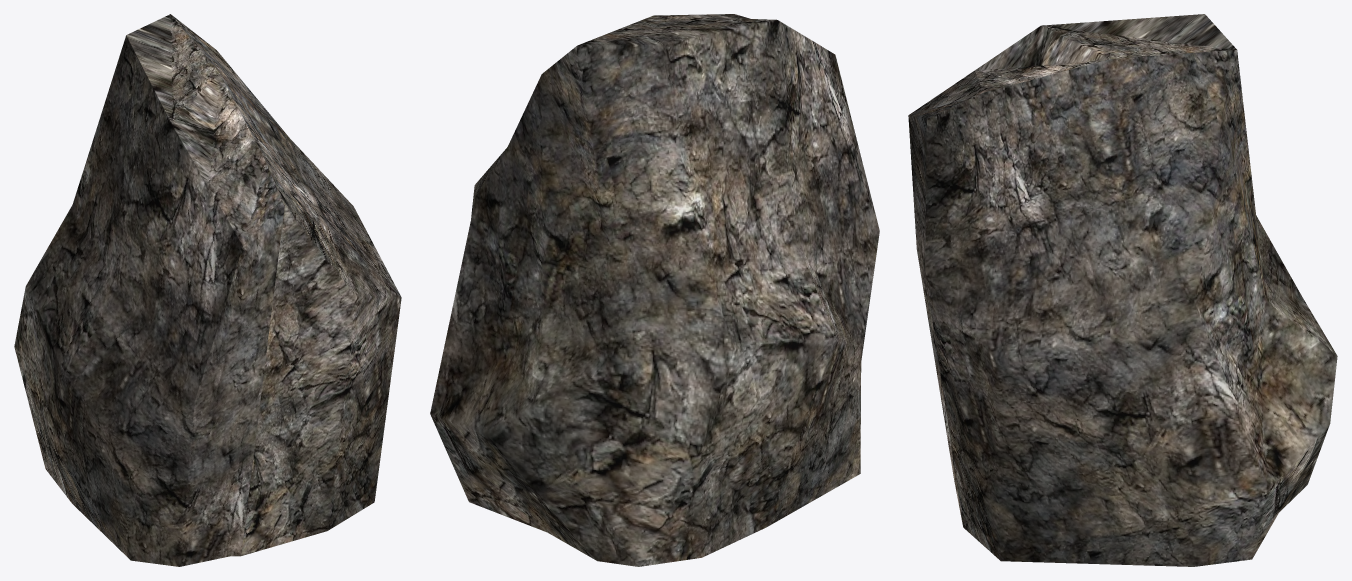
The model's file is pir_m_prp_cav_rock_g.fbx.
3 views of the same model, side by side, from view 1: azimuth 30°, elevation 25°; view 2: azimuth 150°, elevation 25°; view 3: azimuth 270°, elevation 25° (orthographic). The views are drawn at different scales.
Parts seen in each view (by area): view 1: lod_high; view 2: lod_high; view 3: lod_high.
Part boxes in pixels (box(x1,y1,x2,y2)): lod_high: box(14, 14, 401, 566); lod_high: box(430, 14, 879, 566); lod_high: box(908, 14, 1337, 566).
Bounding box in the file's own units: 1527 × 2067 × 1720.
Materials: 1 (1 with a texture image).
